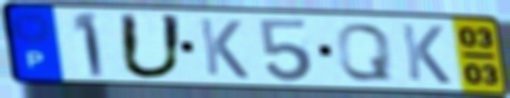1: (70, 11, 108, 80)
5: (259, 17, 316, 83)
K: (196, 16, 252, 81), (398, 22, 454, 86)
Q: (333, 21, 396, 83)
U: (116, 11, 187, 82)
